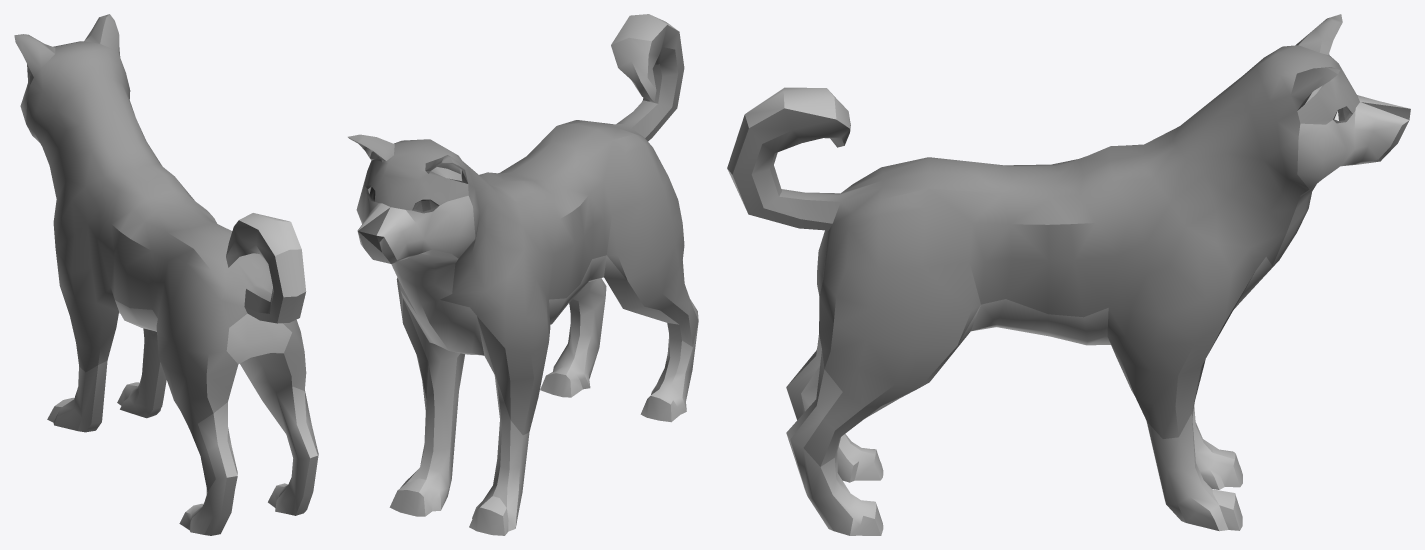
The model's file is kachin_dog.glb.
3 views of the same model, side by side, from view 1: azimuth 30°, elevation 25°; view 2: azimuth 150°, elevation 25°; view 3: azimuth 270°, elevation 25° (orthographic). The views are drawn at different scales.
Parts seen in each view (by area): view 1: Body; view 2: Body; view 3: Body.
Part boxes in pixels (bbox=[...]): Body: bbox=[14, 14, 318, 535]; Body: bbox=[348, 14, 698, 535]; Body: bbox=[727, 14, 1410, 535].
Bounding box in the file's own units: 0.2572 × 0.7418 × 1.
1 material, 1 textured.
